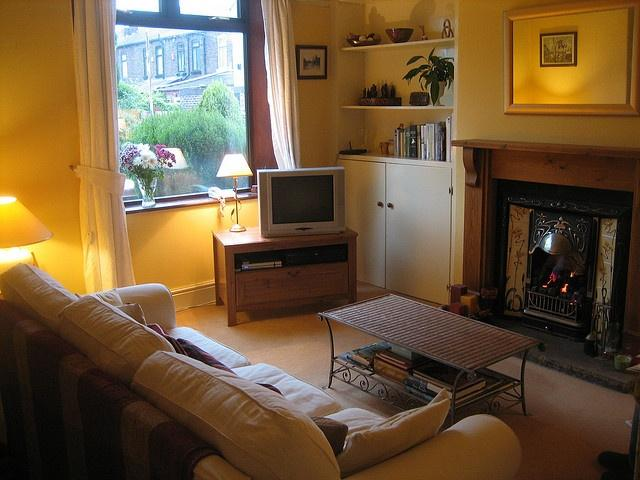AIO PC-Monitor-TV: (257, 166, 346, 236)
Kursi: (314, 290, 547, 428)
Rak: (334, 0, 457, 163)
